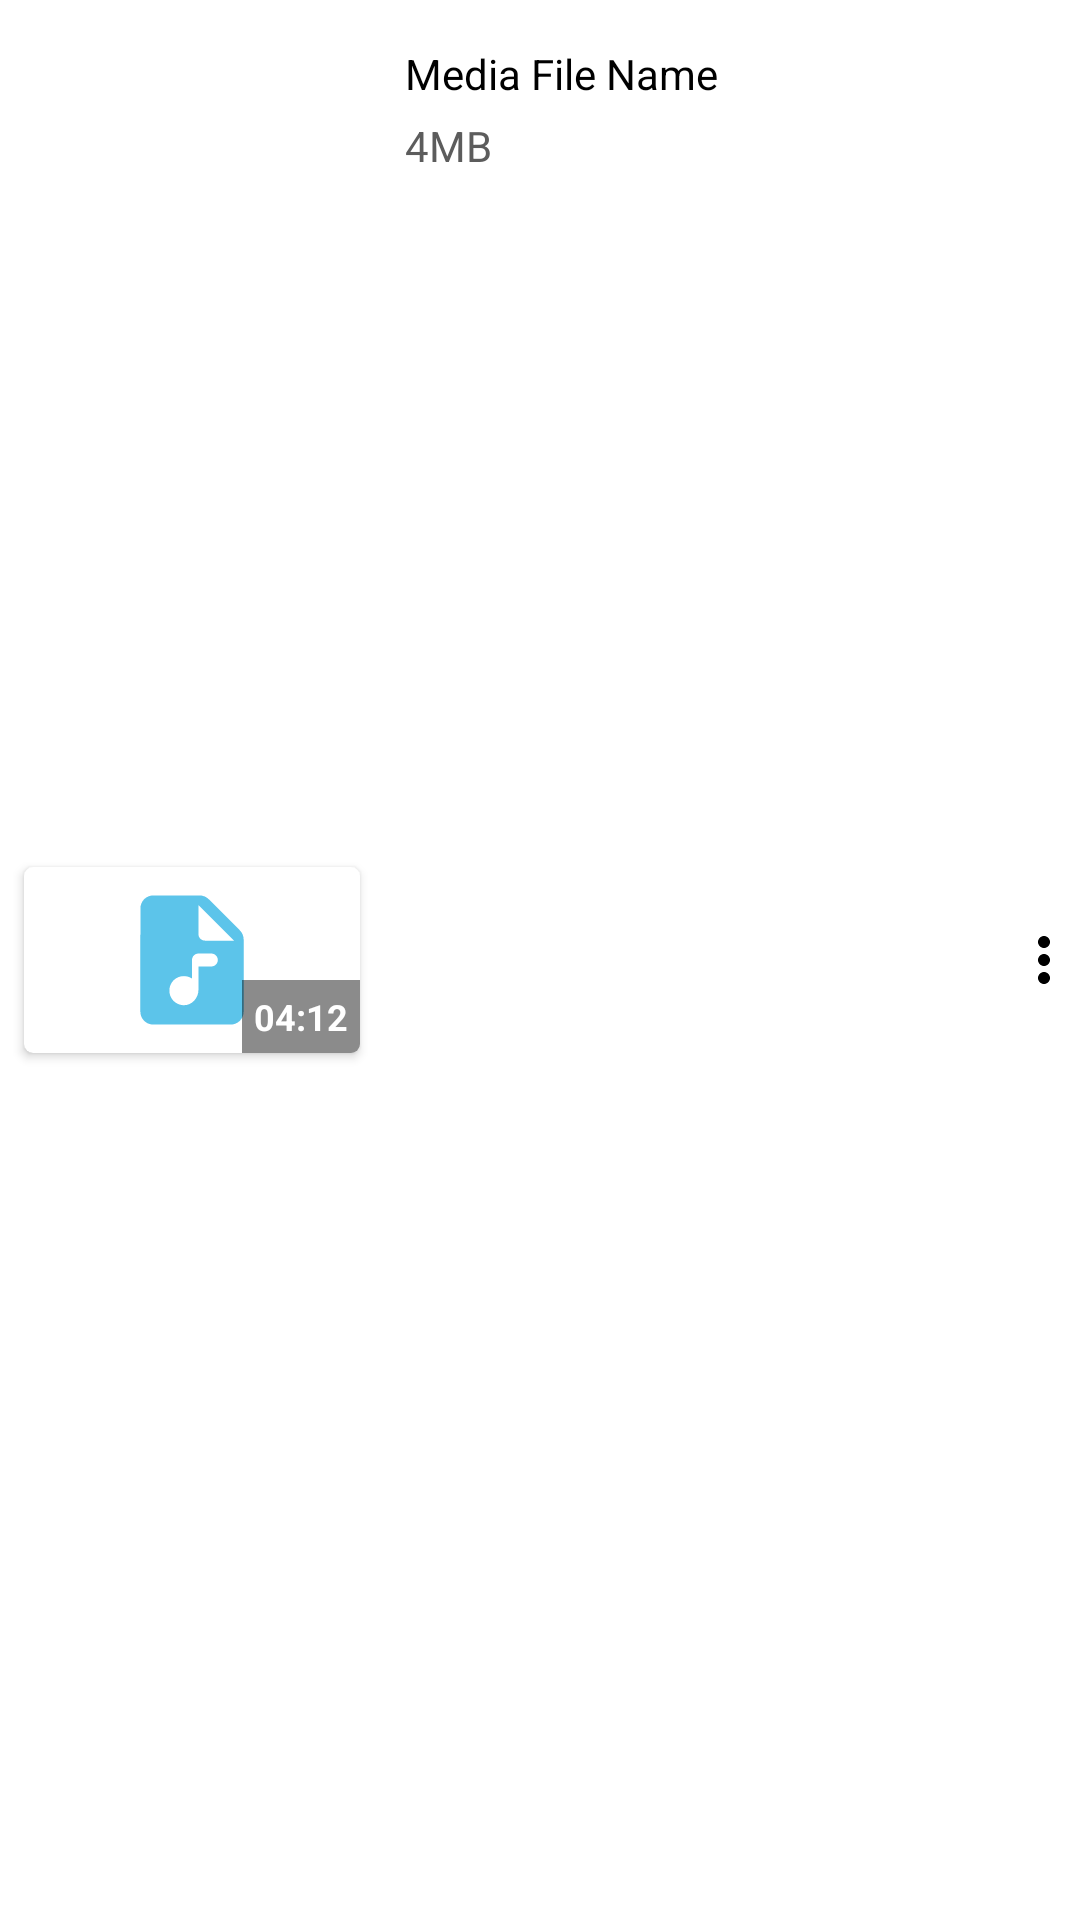

Screen size 1080×1920. Icon name, then its box in pixels as box=[x1, y1, x2, y2]:
more: box=[1038, 936, 1050, 984]
